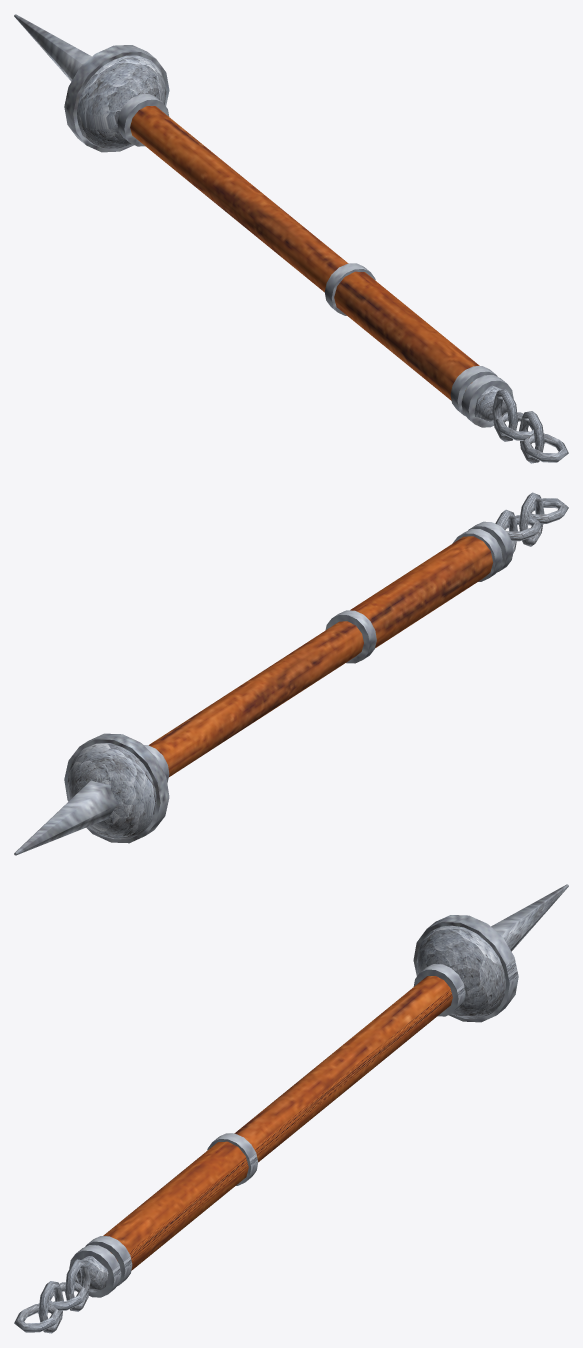
Rendered from item_mace2.glb.
3 views of the same model, one above another, from view 1: azimuth 30°, elevation 25°; view 2: azimuth 150°, elevation 25°; view 3: azimuth 330°, elevation 25° (orthographic).
Parts seen in each view (by area): view 1: shaft; view 2: shaft; view 3: shaft.
Part boxes in pixels (x1,y1,x2,y2): shaft: (14,14,568,463); shaft: (14,492,568,855); shaft: (14,884,568,1333).
Size of the model in its own units: 0.1022 by 0.1141 by 1.
1 material, 1 textured.
